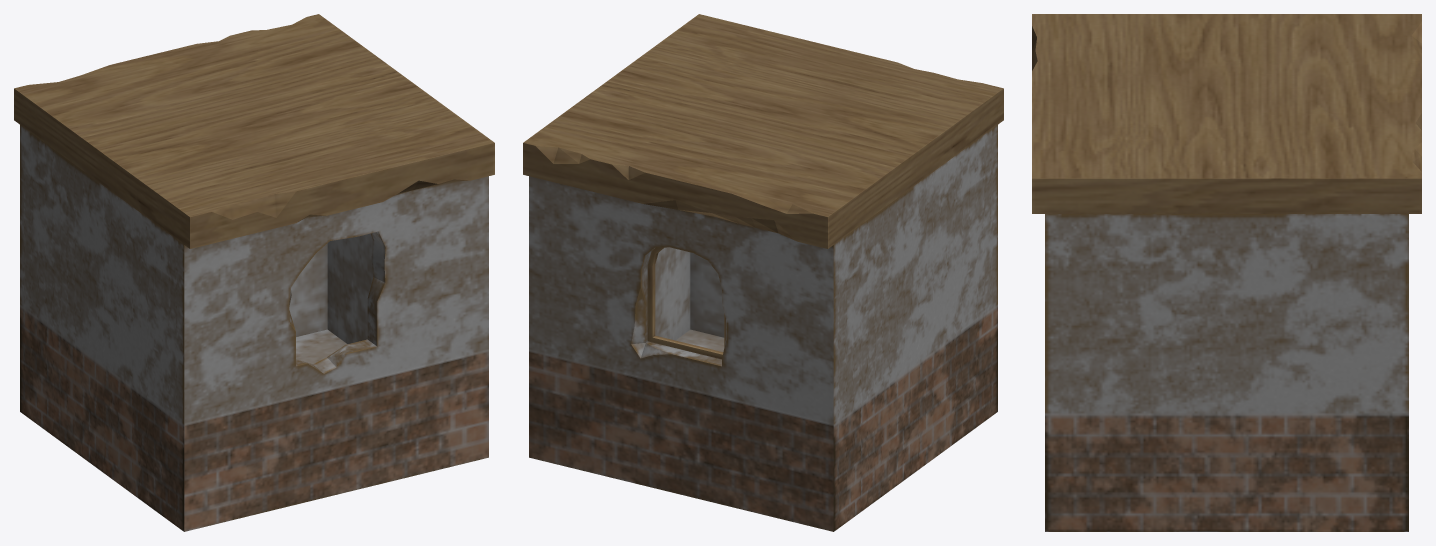
File: sb_obj_outdoor029_house01_wall03_ruins.fbx
3 renders of one model, left to right at view 1: azimuth 30°, elevation 25°; view 2: azimuth 150°, elevation 25°; view 3: azimuth 270°, elevation 25°, orthographic. The views are drawn at different scales.
Visible parts, largest first — view 1: sb_obj_outdoor029_house01_wall03_ruins; view 2: sb_obj_outdoor029_house01_wall03_ruins; view 3: sb_obj_outdoor029_house01_wall03_ruins.
Boxes of the visible parts, x1,y1,x2,y2 form: sb_obj_outdoor029_house01_wall03_ruins: (14, 14, 494, 531); sb_obj_outdoor029_house01_wall03_ruins: (523, 14, 1003, 531); sb_obj_outdoor029_house01_wall03_ruins: (1032, 14, 1421, 531).
Bounding box in the file's own units: 3 × 3 × 3.
